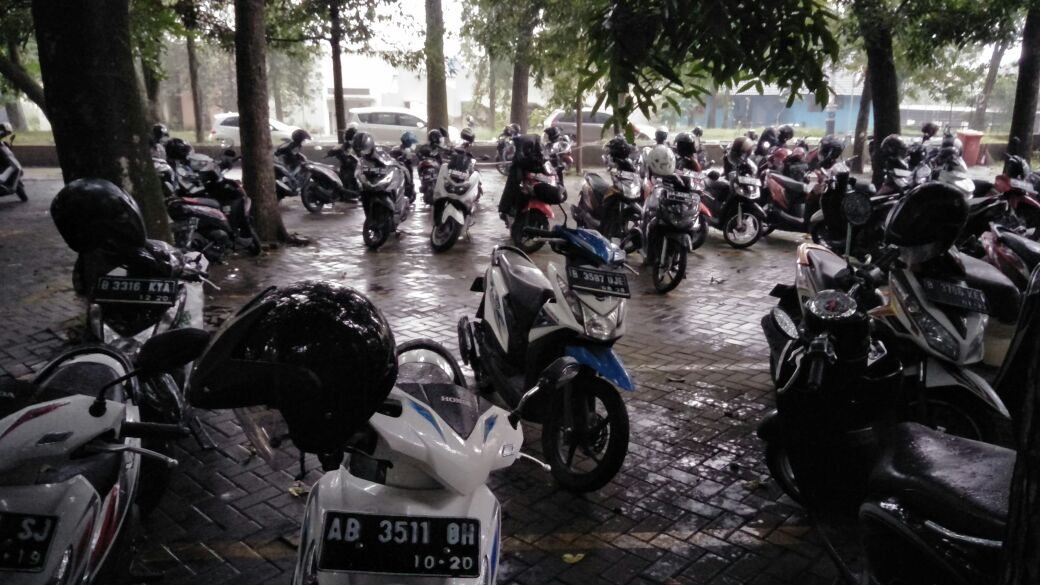plate: (319, 509, 480, 577), (99, 276, 175, 309), (569, 264, 629, 294)
